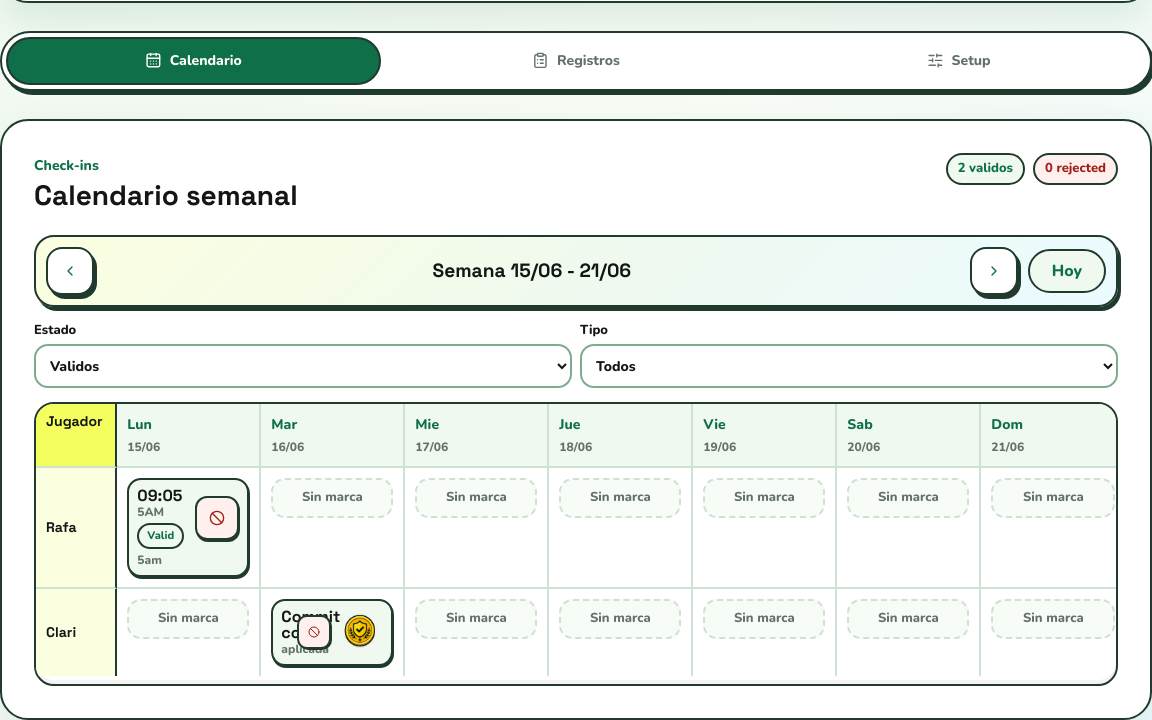
admin screen shows weekly check-in calendar with rejected rows visible
(page scrolled)
Expected: the text "Semana 15/06 - 21/06" is shown, [432,258,631,283]
Expected: the column heading "Rafa" is shown, [36,468,117,589]
Step 1. Click the button named "invalidar coin de clari" → (314, 632), box [297,615,331,649]
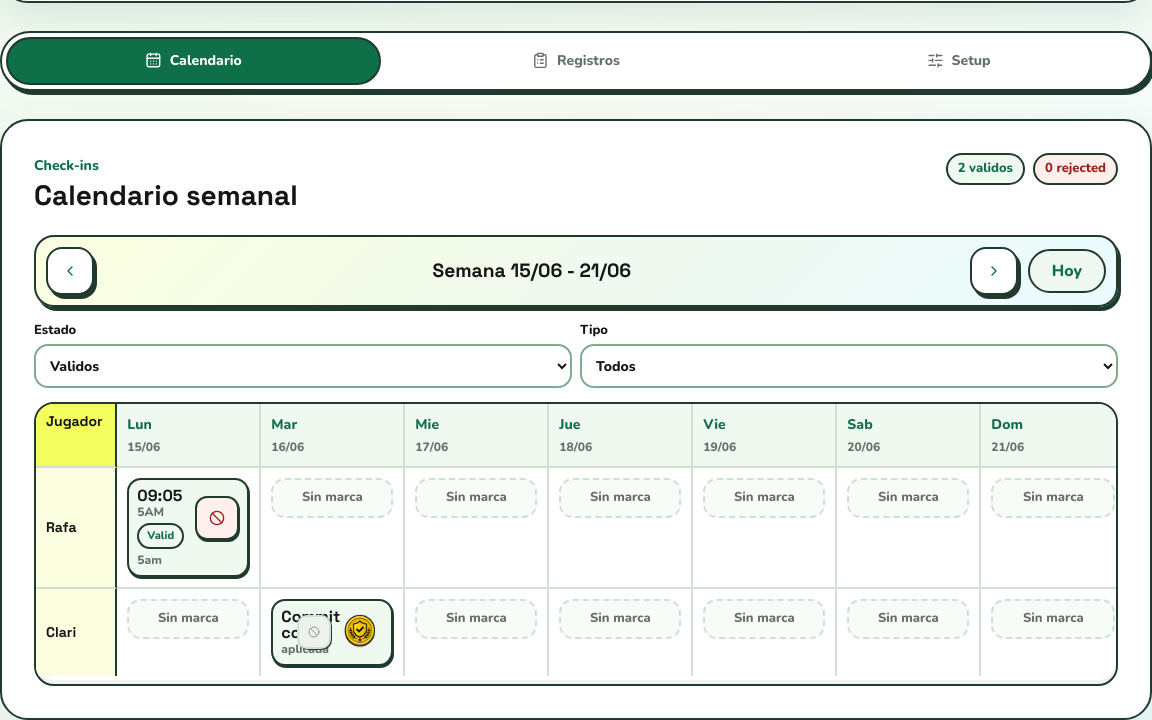
Step 2. Select "Todos" in the dropdown labelled "Estado" → (303, 366), box [34,344,572,388]
(page scrolled)
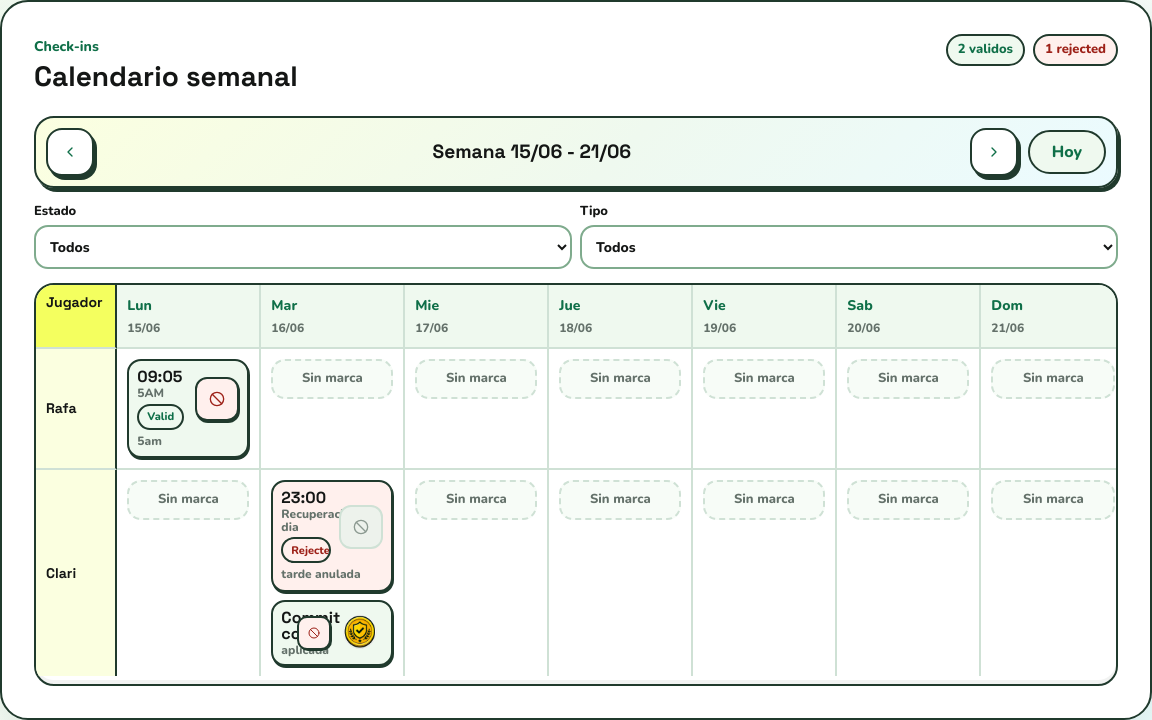
Expected: the text "Recuperacion dia" is shown, [281,508,358,533]
Expected: the text "Rejected" is shown, [281,537,331,563]
Expected: the text "tarde anulada" is shown, [281,566,361,582]
